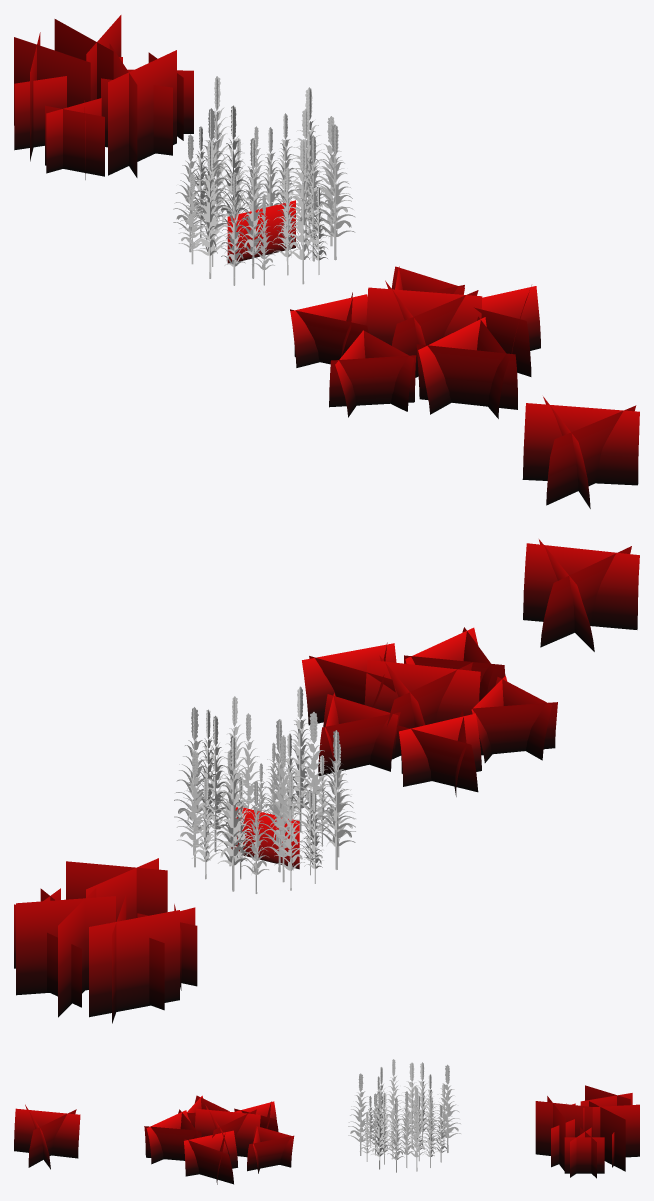
The model's file is SGS_Grass.fbx.
The picture shows the model from 3 angles, top to bottom: view 1: azimuth 30°, elevation 25°; view 2: azimuth 150°, elevation 25°; view 3: azimuth 270°, elevation 25°; orthographic projection. The views are drawn at different scales.
Visible parts, largest first — view 1: GrassPatch_LOD0, GrassTall_LOD0, Wheat_LOD0, GrassSingle_LOD0, GrassBillboardQuad; view 2: GrassPatch_LOD0, GrassTall_LOD0, Wheat_LOD0, GrassSingle_LOD0, GrassBillboardQuad; view 3: GrassPatch_LOD0, GrassTall_LOD0, Wheat_LOD0, GrassSingle_LOD0.
Boxes of the visible parts, left/top/right/bottom form: GrassPatch_LOD0: left=290, top=266, right=540, bottom=418; GrassTall_LOD0: left=14, top=15, right=193, bottom=179; Wheat_LOD0: left=173, top=76, right=355, bottom=285; GrassSingle_LOD0: left=522, top=396, right=639, bottom=508; GrassBillboardQuad: left=227, top=200, right=295, bottom=263; GrassPatch_LOD0: left=302, top=627, right=557, bottom=796; GrassTall_LOD0: left=14, top=858, right=197, bottom=1023; Wheat_LOD0: left=174, top=686, right=355, bottom=893; GrassSingle_LOD0: left=523, top=539, right=639, bottom=651; GrassBillboardQuad: left=231, top=807, right=299, bottom=869; GrassPatch_LOD0: left=144, top=1095, right=294, bottom=1184; GrassTall_LOD0: left=535, top=1085, right=639, bottom=1178; Wheat_LOD0: left=348, top=1059, right=460, bottom=1172; GrassSingle_LOD0: left=14, top=1104, right=80, bottom=1169.
Size of what is drawn, in the model's own units: 2.48 by 1.67 by 10.42.
Materials: 4 (1 with a texture image).
